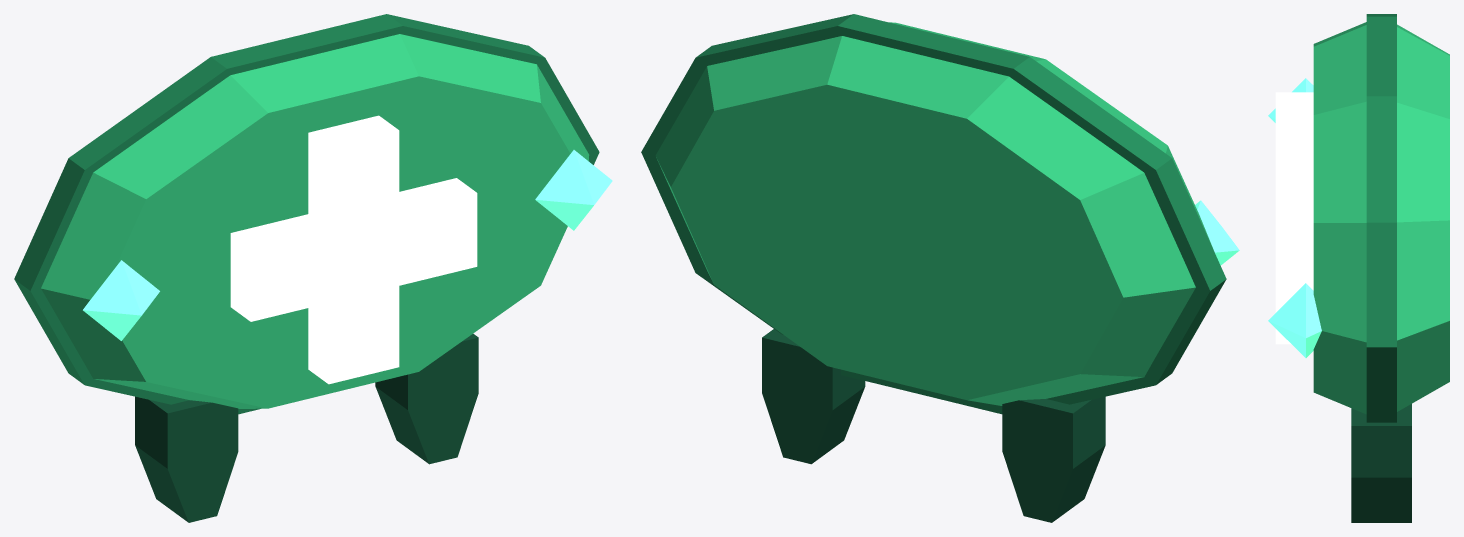
Rendered from mender.glb.
The picture shows the model from 3 angles, left to right: view 1: azimuth 30°, elevation 25°; view 2: azimuth 150°, elevation 25°; view 3: azimuth 270°, elevation 25°; orthographic projection. The views are drawn at different scales.
Parts seen in each view (by area): view 1: body, cross, leg_L, leg_R, pod_L, pod_R; view 2: body, leg_L, leg_R, pod_L; view 3: body, cross, leg_R, pod_R, pod_L.
Boxes of the visible parts, left/top/right/bottom form: body: left=14, top=14, right=599, bottom=414; cross: left=230, top=115, right=477, bottom=384; leg_L: left=135, top=396, right=238, bottom=522; leg_R: left=375, top=333, right=478, bottom=464; pod_L: left=83, top=260, right=159, bottom=340; pod_R: left=535, top=150, right=612, bottom=230; body: left=641, top=14, right=1226, bottom=414; leg_L: left=1002, top=396, right=1105, bottom=522; leg_R: left=762, top=329, right=865, bottom=464; pod_L: left=1195, top=200, right=1239, bottom=265; body: left=1313, top=14, right=1449, bottom=422; cross: left=1275, top=92, right=1313, bottom=344; leg_R: left=1351, top=404, right=1411, bottom=522; pod_R: left=1268, top=283, right=1321, bottom=357; pod_L: left=1268, top=78, right=1313, bottom=122.
Size of the model in its own units: 16.1 by 11.81 by 4.8.
